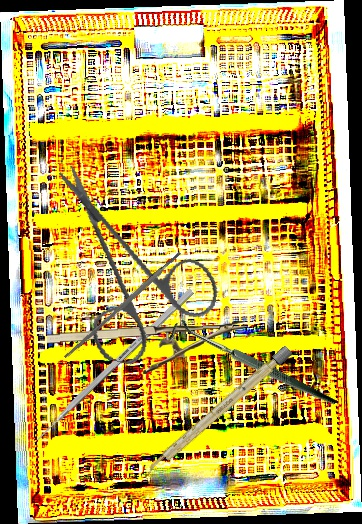Hook Surgical: (164, 274, 338, 460)
Iris Scissors: (21, 163, 238, 381)
Needle Holder: (46, 321, 247, 377)
Pusher: (21, 287, 195, 455)
Scalpel Handle: (143, 345, 294, 477), (62, 250, 184, 361)
